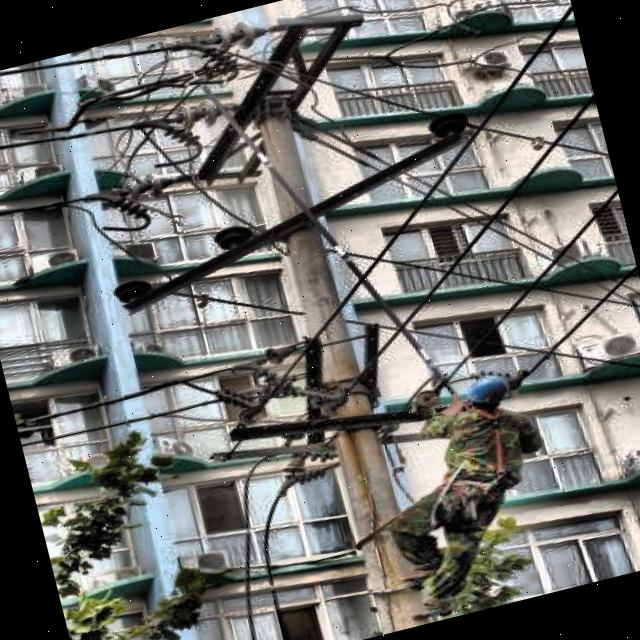helmet: (458, 371, 514, 418)
